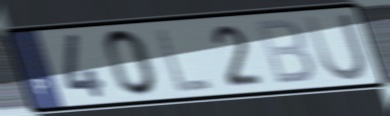0: (101, 27, 161, 99)
2: (211, 23, 267, 89)
4: (62, 31, 111, 102)
B: (252, 16, 317, 87)
L: (153, 25, 217, 95)
U: (302, 10, 370, 84)
